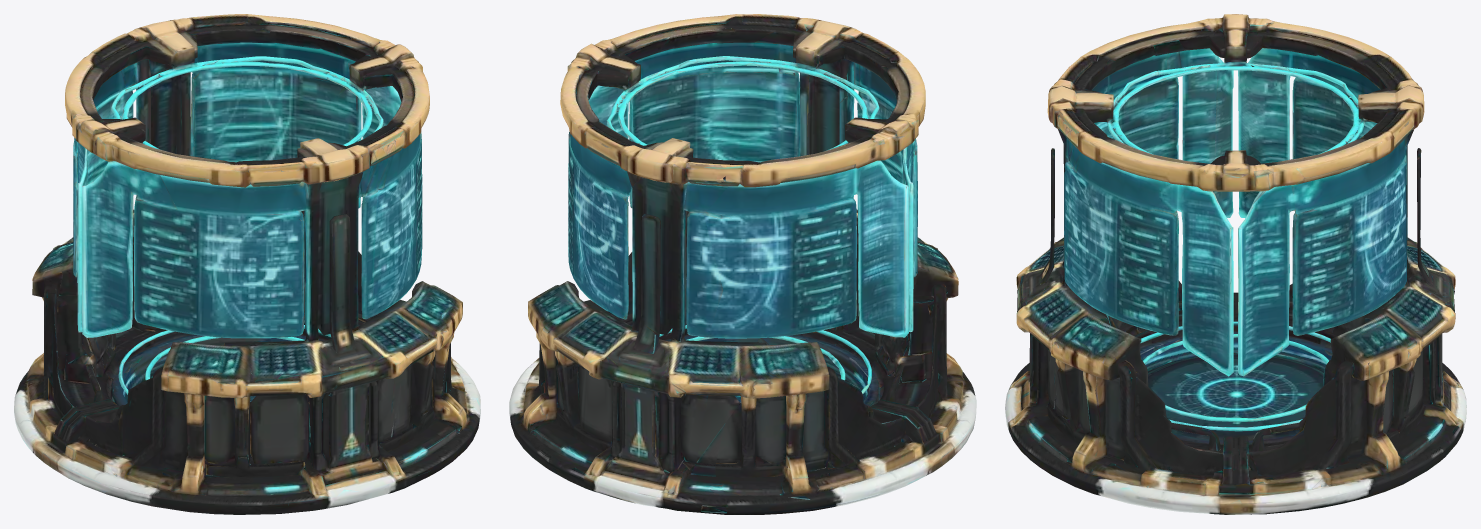
Rendered from eoncity_agent_theatre_relay_console.da4372b861b5.glb.
3 views of the same model, side by side, from view 1: azimuth 30°, elevation 25°; view 2: azimuth 150°, elevation 25°; view 3: azimuth 270°, elevation 25° (orthographic).
Parts seen in each view (by area): view 1: Mesh1.0; view 2: Mesh1.0; view 3: Mesh1.0.
Boxes of the visible parts, box(x1,y1,x2,y2) form: Mesh1.0: box(14, 14, 480, 514); Mesh1.0: box(509, 14, 976, 514); Mesh1.0: box(1005, 14, 1466, 514).
Size of the model in its own units: 1.9 by 1.49 by 1.9.
Materials: 1 (1 with a texture image).
